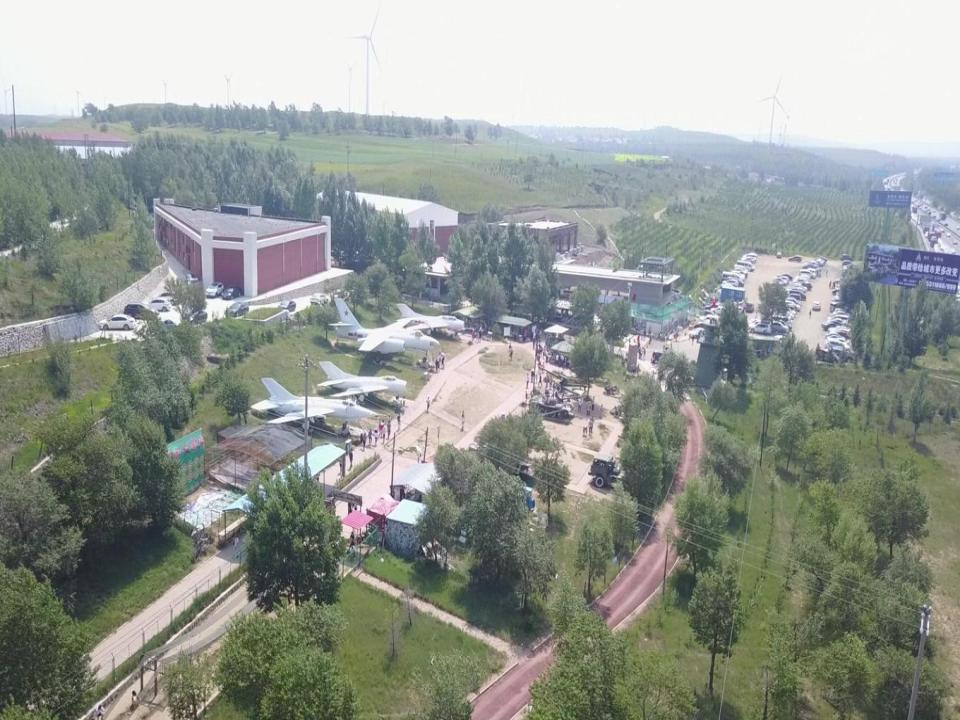car: (98, 314, 136, 332), (122, 301, 158, 320), (144, 296, 172, 312), (183, 307, 208, 324), (828, 346, 854, 362), (225, 301, 249, 317), (153, 318, 177, 333), (205, 282, 224, 298), (825, 333, 849, 345), (825, 315, 849, 327), (221, 285, 241, 299), (276, 298, 296, 312), (828, 327, 851, 339), (826, 310, 849, 322), (310, 292, 329, 306), (688, 326, 707, 340), (826, 325, 849, 336), (821, 319, 844, 330), (698, 313, 720, 324), (785, 282, 807, 293), (770, 311, 790, 323), (782, 295, 802, 307), (770, 321, 789, 333), (772, 319, 792, 330), (781, 299, 801, 310), (798, 267, 816, 279), (785, 285, 805, 295), (788, 278, 809, 287), (689, 320, 707, 330), (704, 303, 722, 313), (777, 307, 796, 316), (725, 276, 743, 285), (187, 277, 200, 289), (831, 308, 846, 318), (730, 270, 745, 280), (775, 311, 793, 319), (794, 274, 810, 283), (806, 267, 822, 276), (802, 263, 818, 272), (840, 253, 853, 264), (732, 266, 746, 276), (722, 279, 739, 287), (775, 272, 792, 280), (841, 266, 857, 274), (802, 260, 818, 268), (811, 300, 822, 311), (741, 256, 756, 264), (788, 255, 802, 263), (772, 278, 788, 285), (775, 276, 789, 284), (810, 259, 824, 267), (815, 256, 828, 264), (746, 302, 754, 313), (842, 263, 856, 269), (841, 259, 853, 265), (776, 251, 782, 258)
truck: (588, 453, 649, 491)
van: (815, 346, 841, 364), (824, 337, 850, 353), (749, 320, 772, 335), (721, 271, 742, 283), (734, 259, 754, 271), (789, 290, 806, 300), (733, 264, 748, 275), (830, 301, 844, 312), (744, 253, 758, 262), (804, 267, 816, 275)
